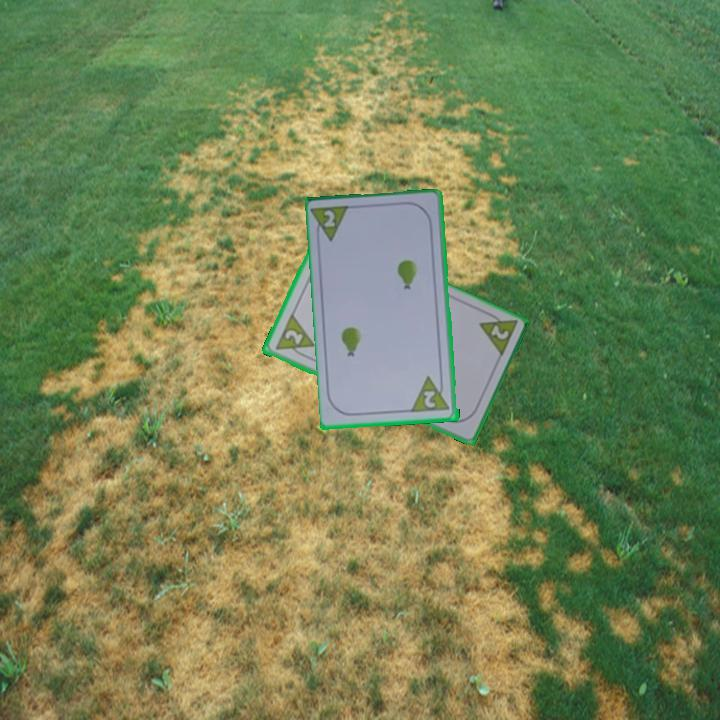2p: (475, 307, 520, 360), (409, 373, 453, 415), (280, 326, 306, 348), (321, 207, 339, 231)
